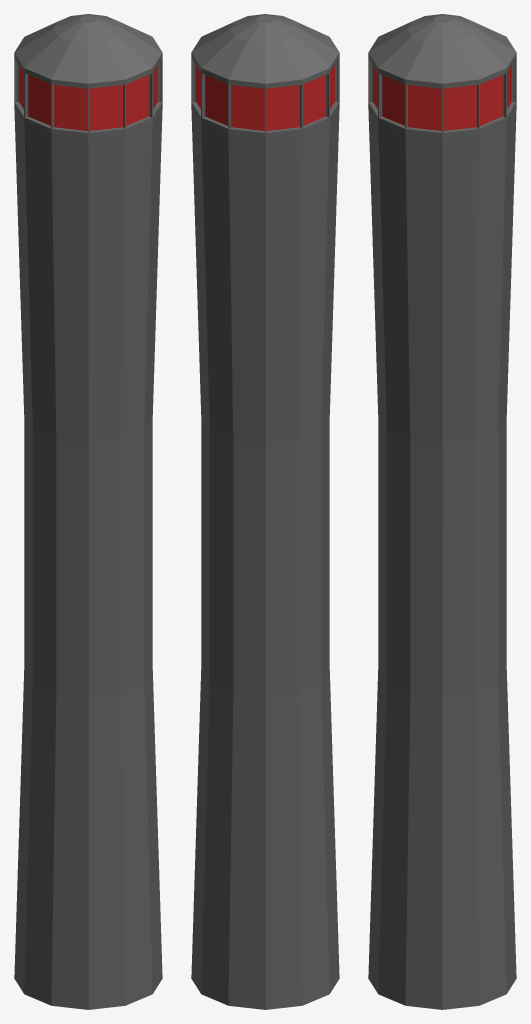
Rendered from BollardColoured.fbx.
3 renders of one model, left to right at view 1: azimuth 30°, elevation 25°; view 2: azimuth 150°, elevation 25°; view 3: azimuth 270°, elevation 25°, orthographic.
Visible parts, largest first — view 1: Cylinder; view 2: Cylinder; view 3: Cylinder.
Part boxes in pixels (x1,y1,x2,y2): Cylinder: [14, 14, 162, 1009]; Cylinder: [191, 14, 339, 1009]; Cylinder: [368, 14, 516, 1009].
Bounding box in the file's own units: 17.5 × 125 × 17.5.
